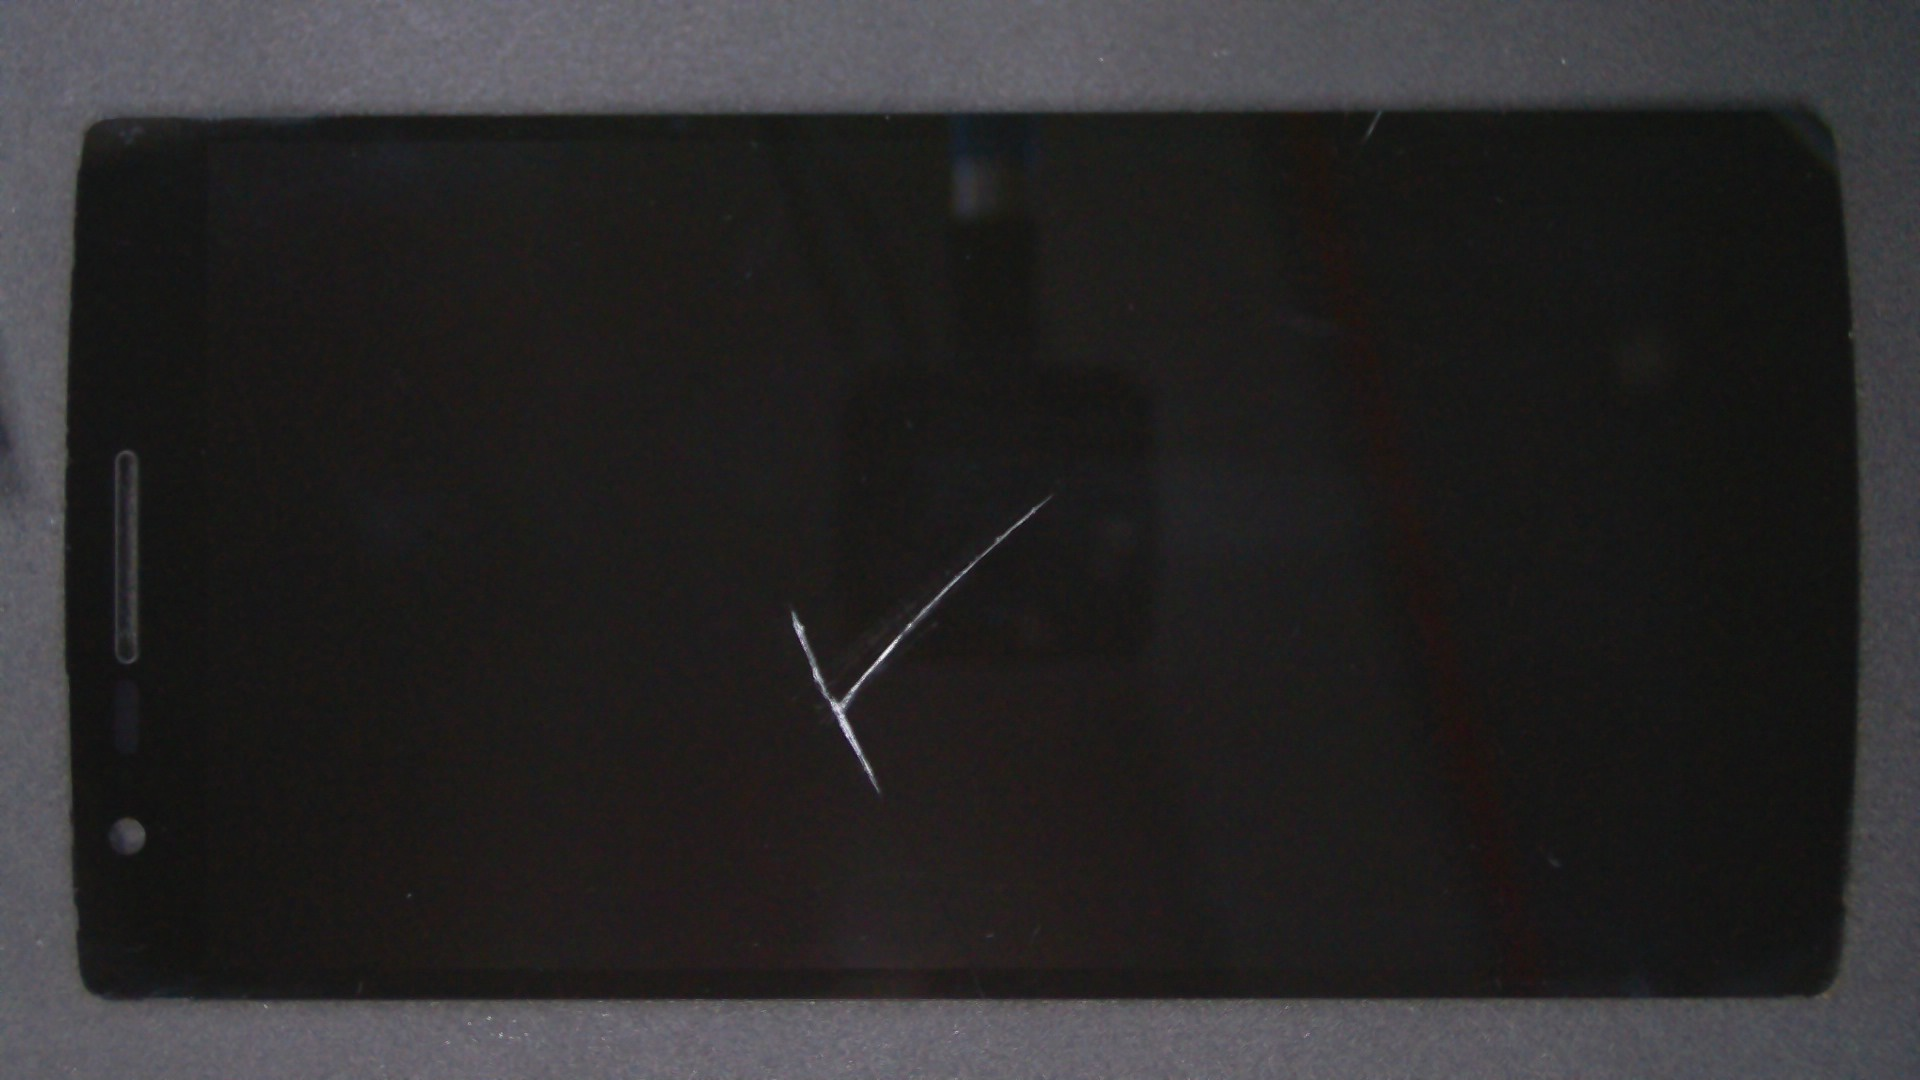oil: (526, 245, 1576, 741)
